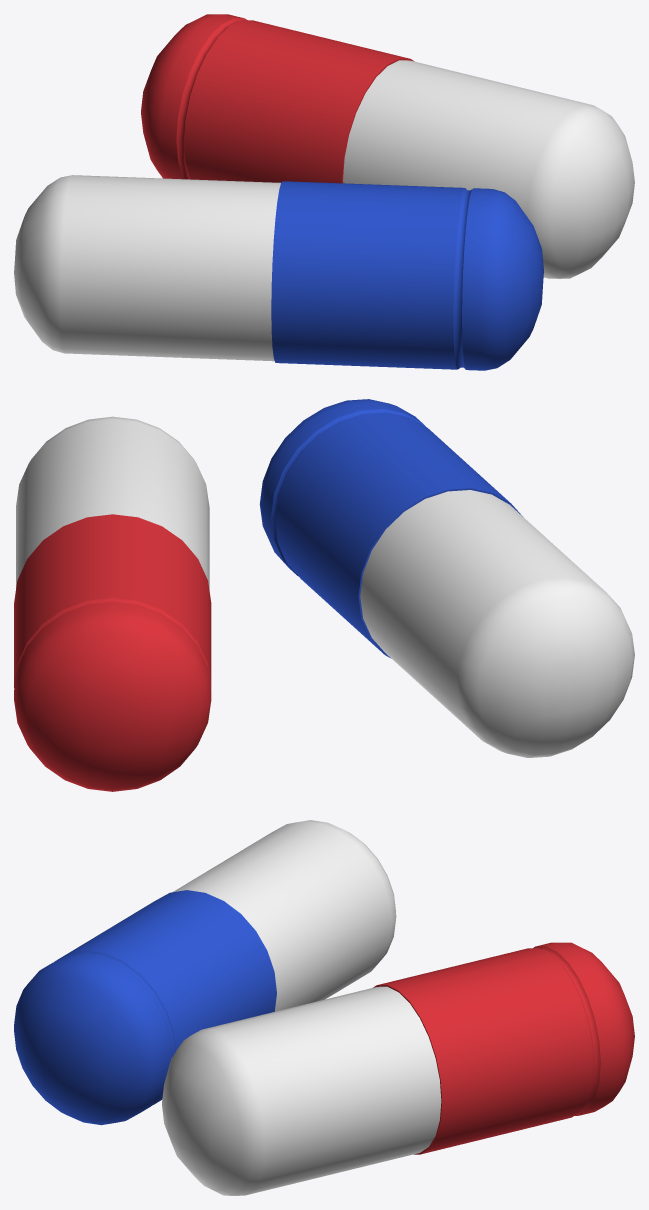
3 renders of one model, top to bottom at view 1: azimuth 30°, elevation 25°; view 2: azimuth 150°, elevation 25°; view 3: azimuth 270°, elevation 25°, orthographic. The views are drawn at different scales.
Visible parts, largest first — view 1: Pill4, Pill3; view 2: Pill4, Pill3; view 3: Pill3, Pill4.
Boxes of the visible parts, <box> form: Pill4: <box>14,175,543,370</box>; Pill3: <box>141,14,634,278</box>; Pill4: <box>259,399,634,757</box>; Pill3: <box>14,416,211,791</box>; Pill3: <box>162,942,634,1195</box>; Pill4: <box>14,820,396,1125</box>.
Bounding box in the file's own units: 0.0292 × 0.008 × 0.0284.
2 materials, 2 textured.
